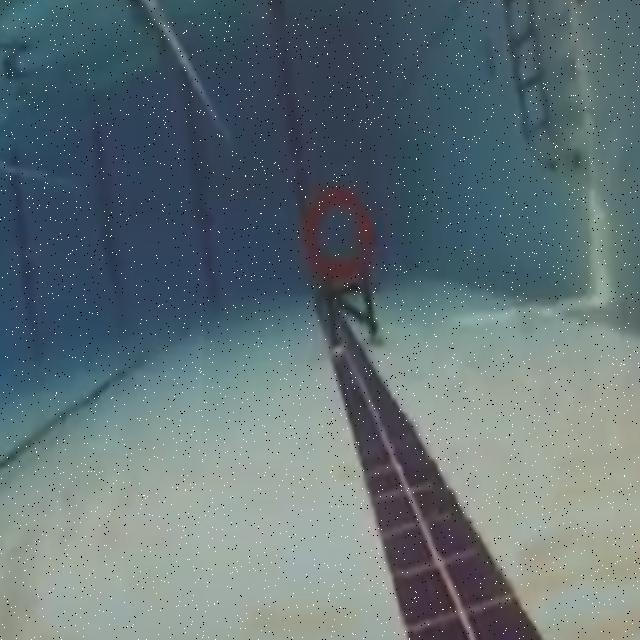Circle: (302, 182, 380, 286)
